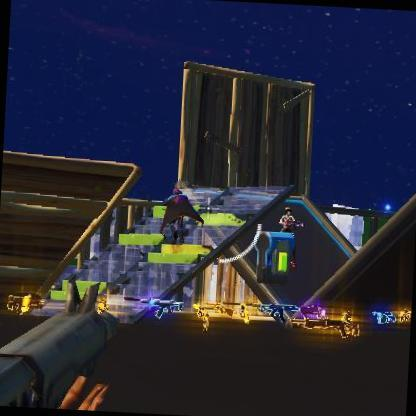person: (166, 183, 192, 242), (279, 205, 300, 263)
